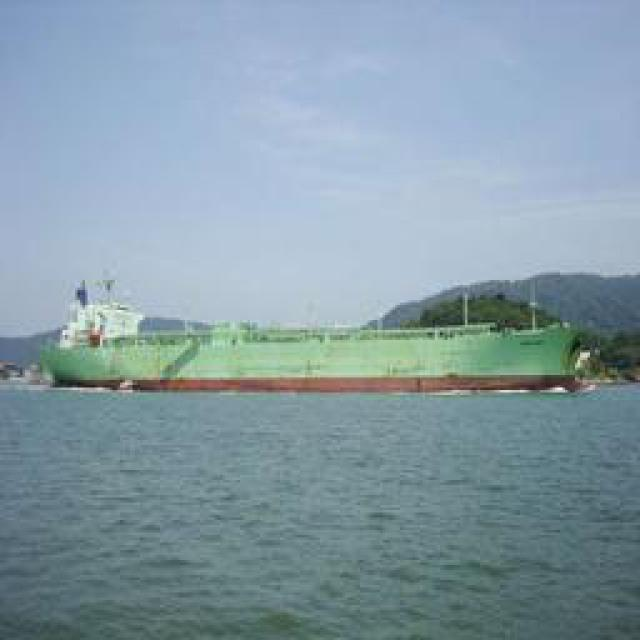Ship: (37, 294, 590, 394)
